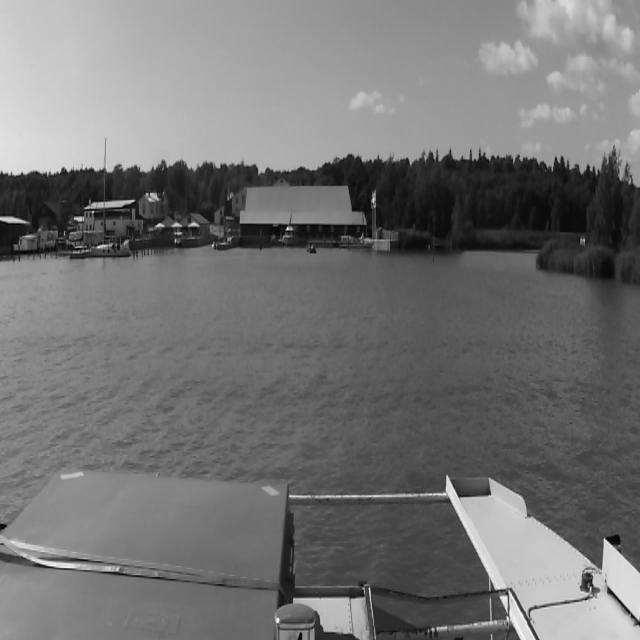buoy: (433, 236, 435, 263)
ship: (92, 139, 132, 257), (333, 188, 380, 248), (57, 162, 85, 258), (282, 213, 294, 247)
